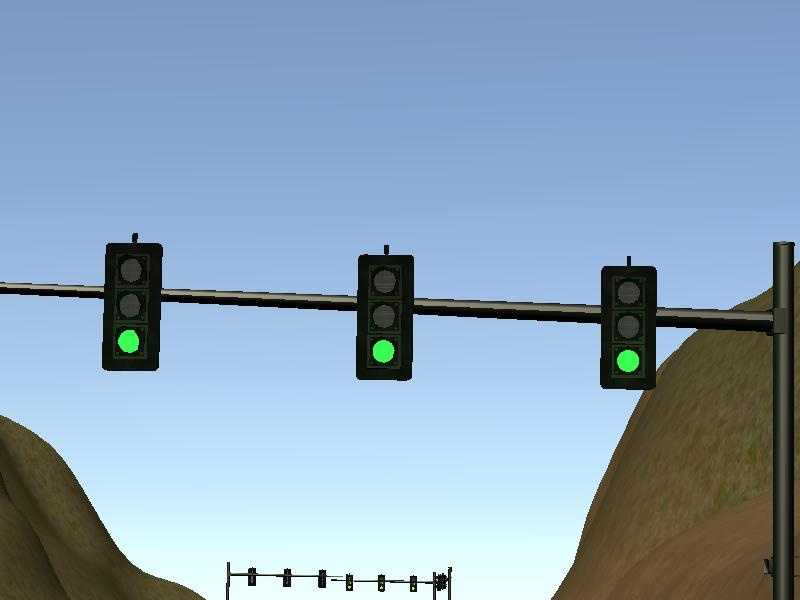GREEN: (103, 243, 161, 369), (355, 255, 413, 381), (600, 265, 658, 391)
